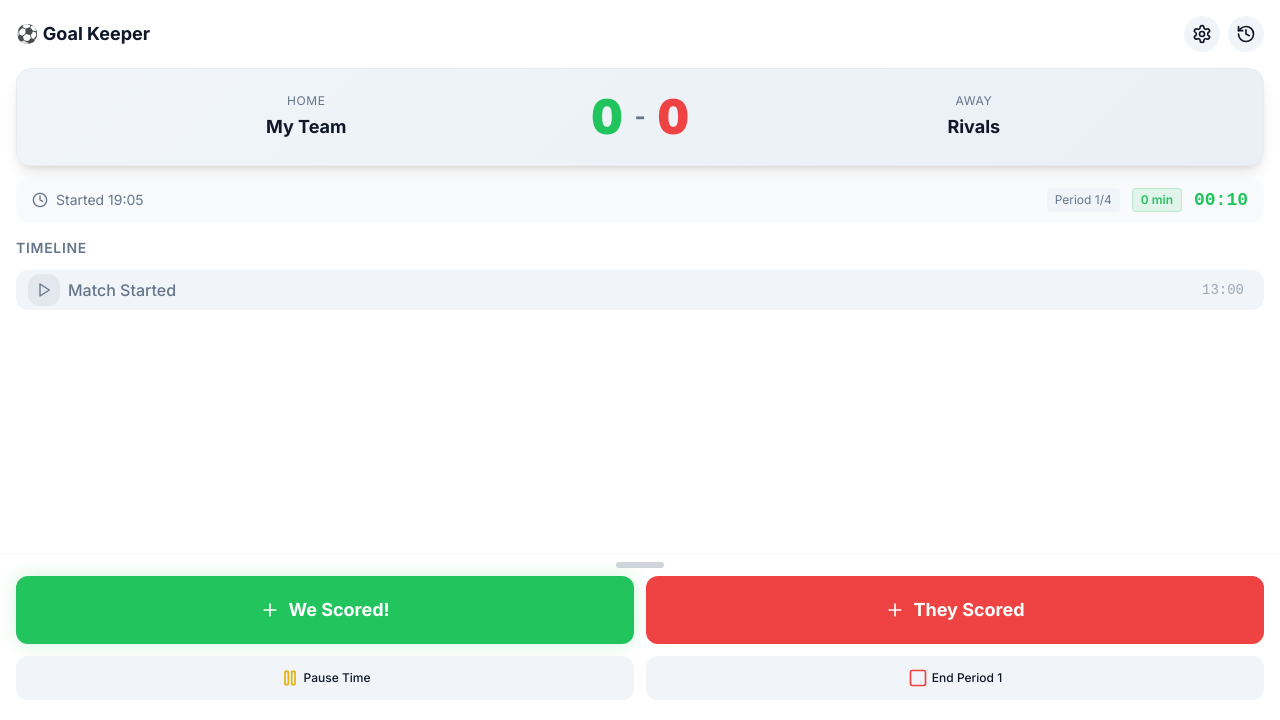
Test case: Index match flow › Undo deletes the latest displayed timeline entry (start)
This screenshot has width=1280, height=720.
Click the button named "show extra actions" at (640, 569), box [16,562,1264,576]
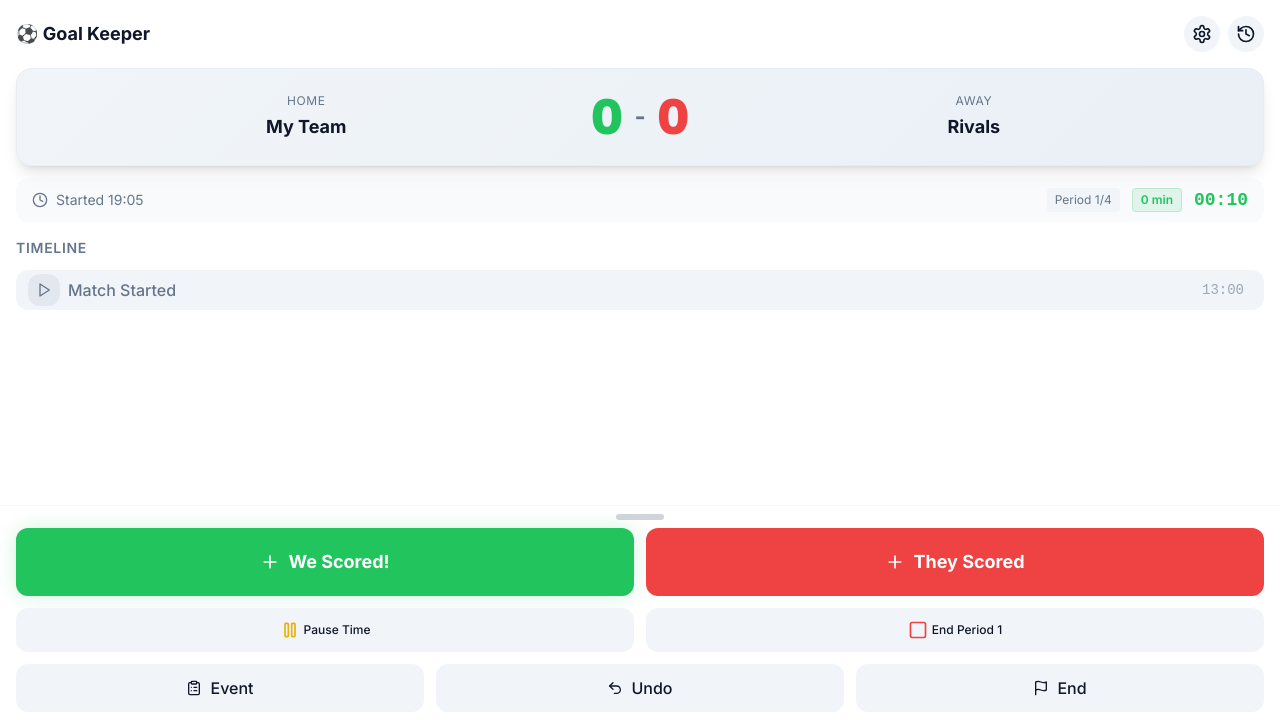
Click the button "Undo" at (640, 688), box [436,664,844,712]
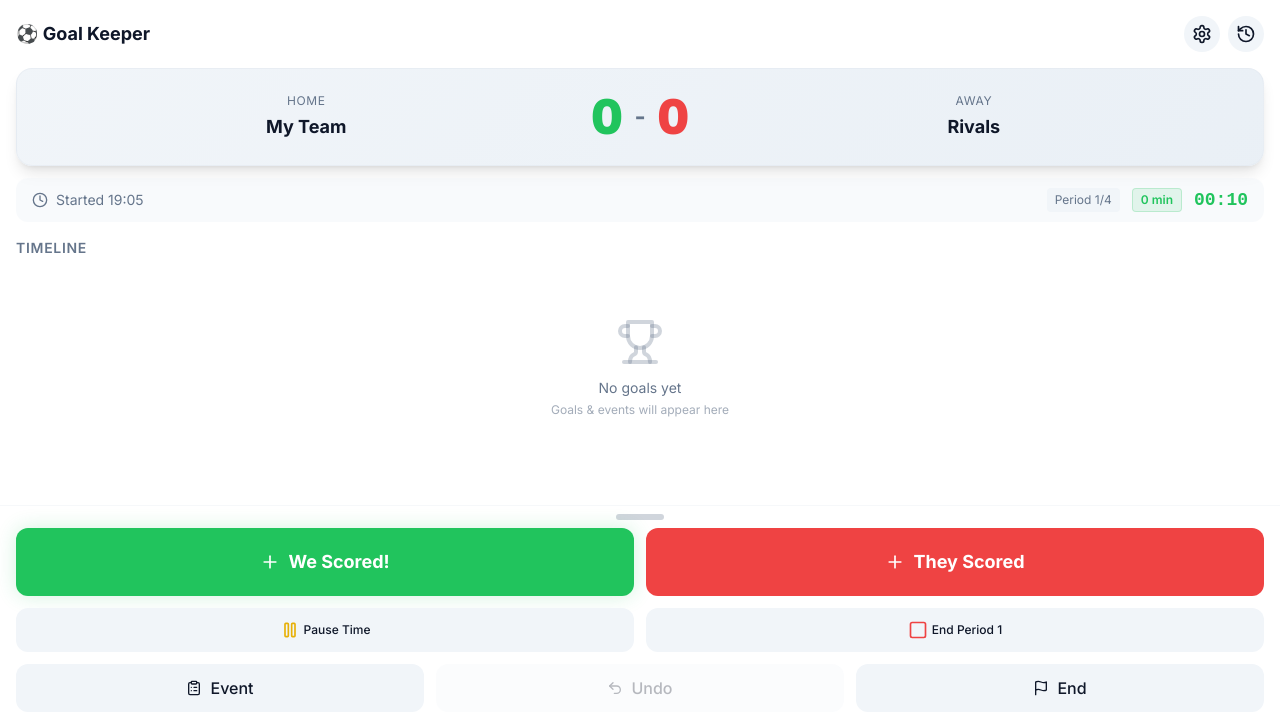
Check: the button "Undo" is disabled, box [436,664,844,712]
